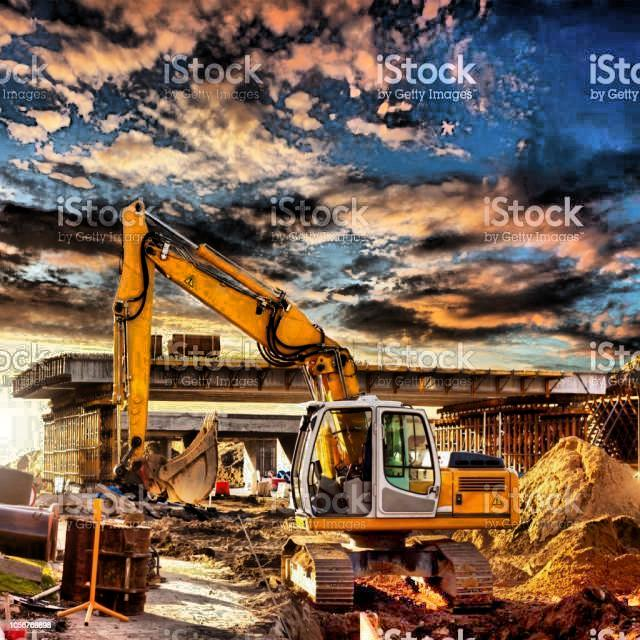excavator: (112, 198, 540, 624)
